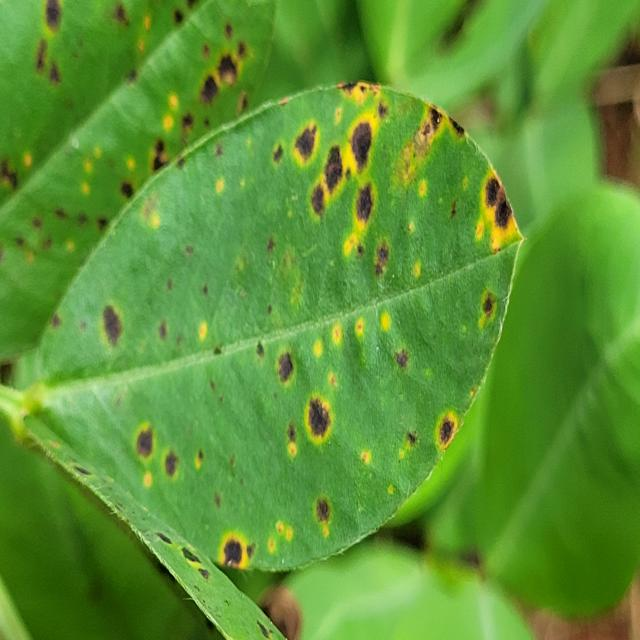Ground nut_tikka leaf spot: (28, 93, 524, 568)
